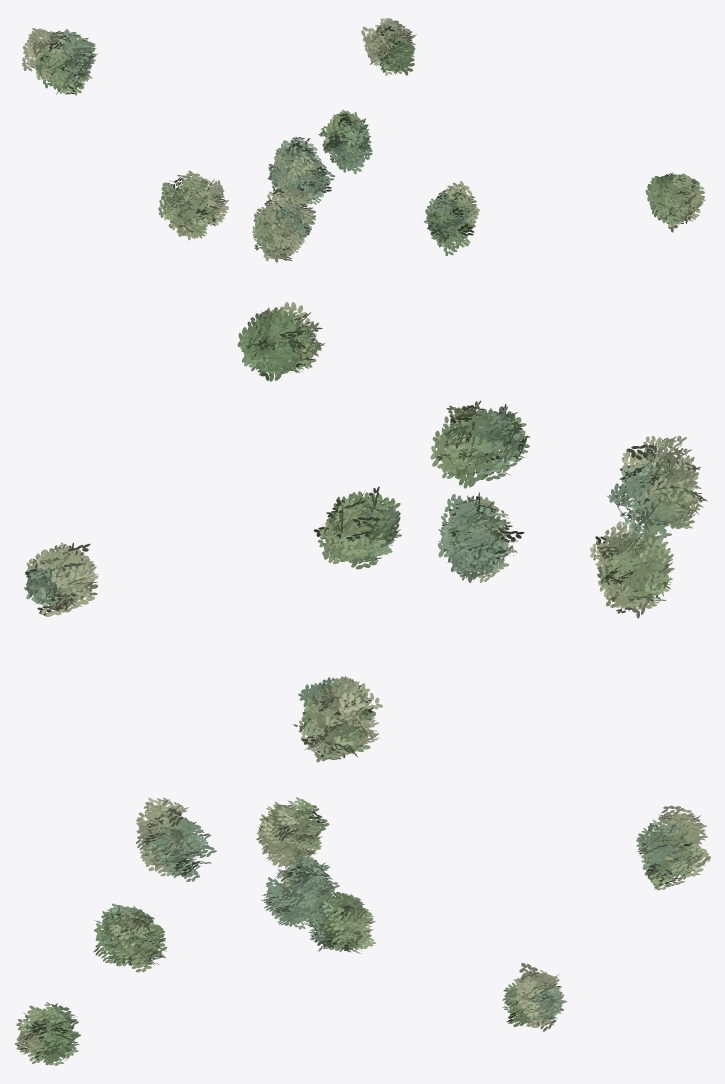
File: campus-tree--2_-2-middle.glb
The picture shows the model from 3 angles, top to bottom: view 1: azimuth 30°, elevation 25°; view 2: azimuth 150°, elevation 25°; view 3: azimuth 270°, elevation 25°; orthographic projection. The views are drawn at different scales.
Parts seen in each view (by area): view 1: Campus leaf canopy; view 2: Campus leaf canopy; view 3: Campus leaf canopy.
Boxes of the visible parts, x1=… form: Campus leaf canopy: x1=22, y1=18, x2=705, y2=262; Campus leaf canopy: x1=24, y1=302, x2=707, y2=762; Campus leaf canopy: x1=14, y1=797, x2=710, y2=1065.
Size of the model in its own units: 37.84 by 7.09 by 48.62.
Materials: 1 (1 with a texture image).
